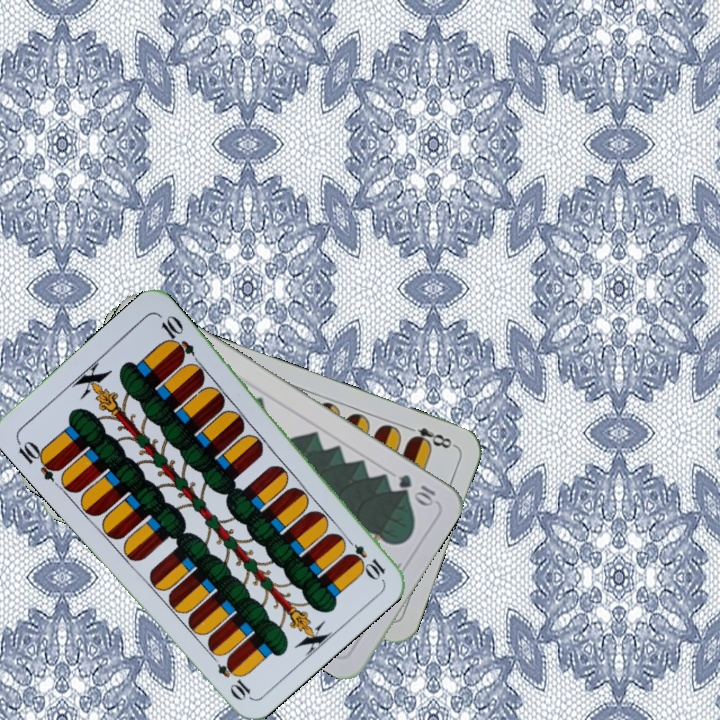E10: (12, 435, 63, 484), (339, 532, 388, 582)
E8: (401, 421, 458, 452)
G10: (394, 470, 439, 508)
